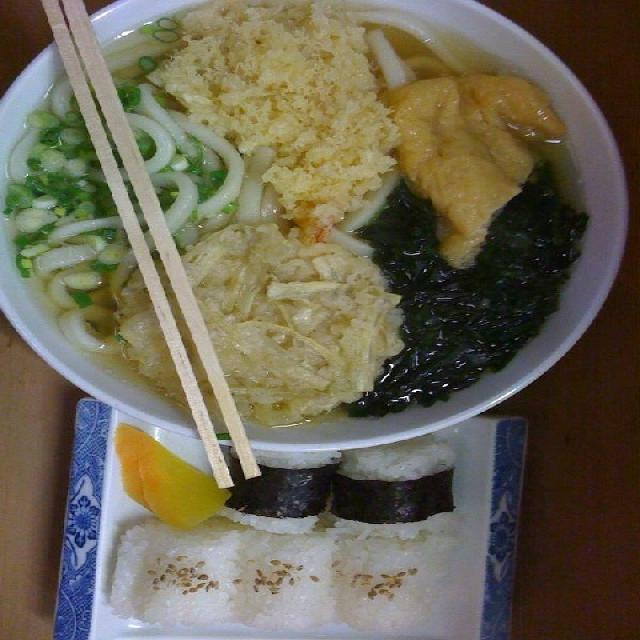米饭主食: (327, 435, 469, 545), (104, 520, 241, 625), (226, 519, 346, 636), (326, 520, 446, 631), (203, 437, 337, 535)
面条主食: (0, 0, 636, 451)
